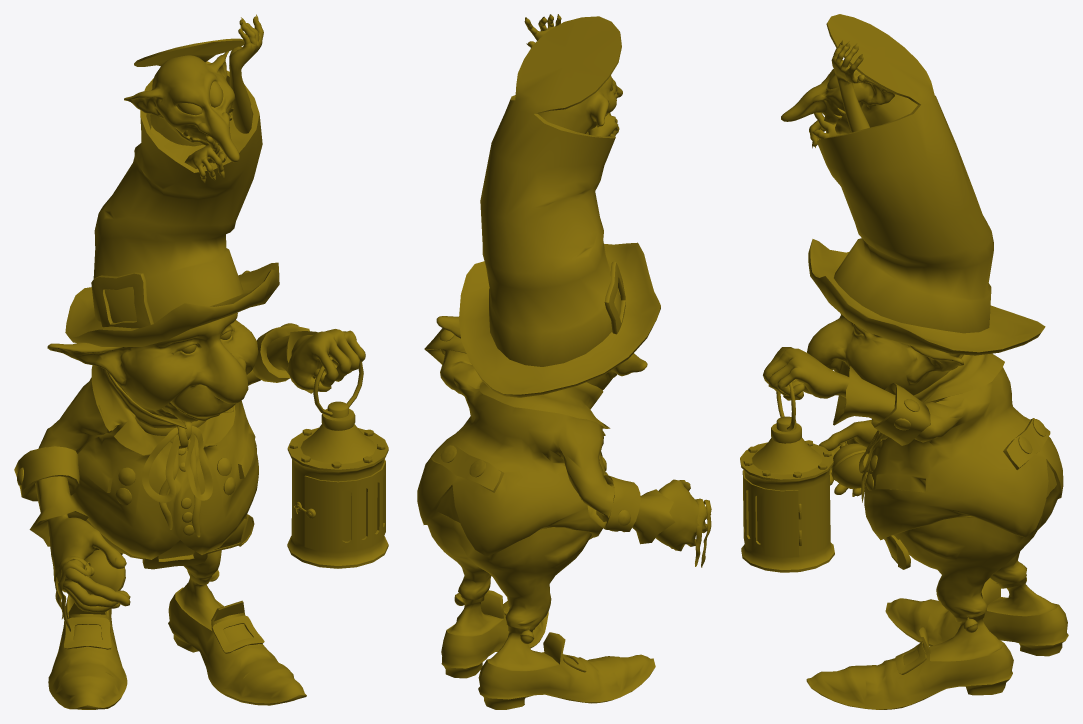
The model's file is leprechaun.obj.
3 renders of one model, left to right at view 1: azimuth 30°, elevation 25°; view 2: azimuth 150°, elevation 25°; view 3: azimuth 270°, elevation 25°, orthographic. The views are drawn at different scales.
Visible parts, largest first — view 1: Body, metal, Leprechaun, Goblin; view 2: Body, Leprechaun, Goblin, metal; view 3: Body, metal, Leprechaun, Goblin.
Boxes of the visible parts, box(x1,y1,x2,y2) form: Body: box(14, 38, 317, 709); metal: box(17, 272, 388, 653); Leprechaun: box(47, 270, 365, 612); Goblin: box(124, 14, 263, 183); Body: box(417, 16, 711, 709); Leprechaun: box(436, 316, 710, 551); Goblin: box(524, 14, 622, 136); metal: box(439, 261, 630, 672); Body: box(806, 14, 1068, 709); metal: box(740, 382, 1046, 674); Leprechaun: box(763, 313, 963, 496); Goblin: box(781, 40, 917, 148).
Size of what is drawn, in the model's own units: 37.35 by 85.57 by 39.8.
